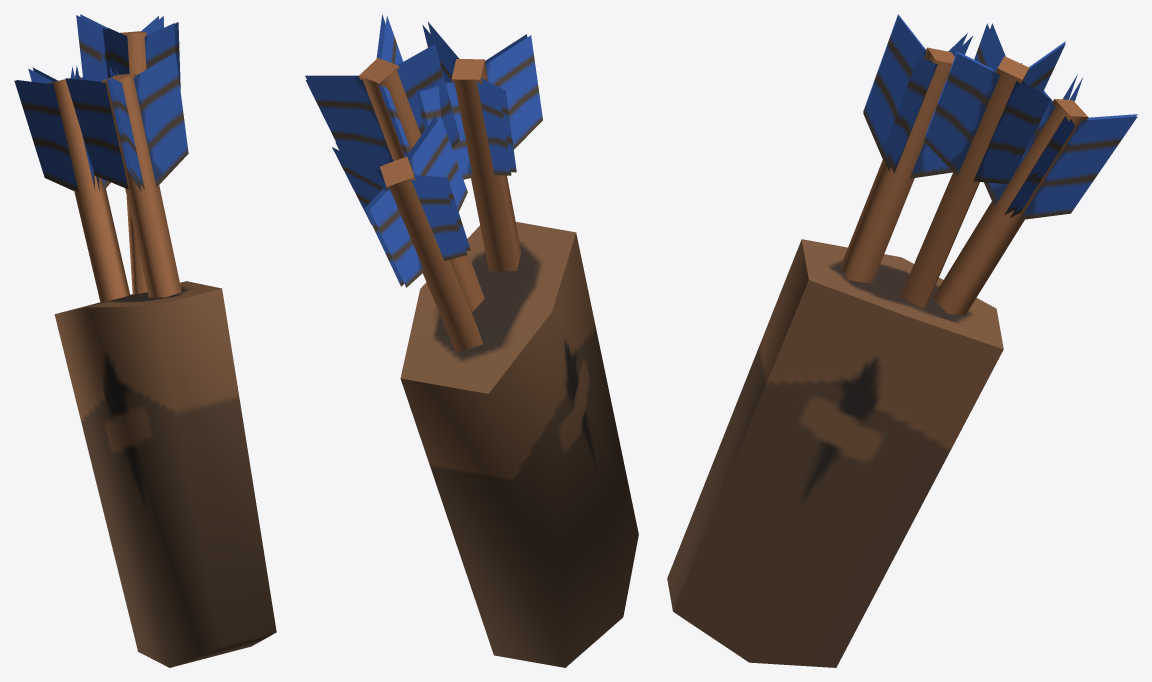
Rendered from Back_Quiver_B.FBX.
The picture shows the model from 3 angles, left to right: view 1: azimuth 30°, elevation 25°; view 2: azimuth 150°, elevation 25°; view 3: azimuth 270°, elevation 25°; orthographic projection. The views are drawn at different scales.
Visible parts, largest first — view 1: quiver_B; view 2: quiver_B; view 3: quiver_B.
Boxes of the visible parts, x1,y1,x2,y2 form: quiver_B: (14, 14, 276, 667); quiver_B: (305, 14, 638, 667); quiver_B: (667, 14, 1137, 667).
Bounding box in the file's own units: 10.43 × 39.67 × 26.6.
